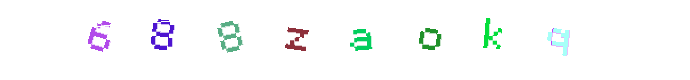6: (78, 0, 158, 80)
8: (122, 0, 202, 80), (213, 0, 293, 80)
A: (306, 0, 386, 80)
K: (382, 0, 462, 80)
O: (373, 0, 453, 80)
Q: (390, 0, 470, 80)
Z: (256, 0, 336, 80)
